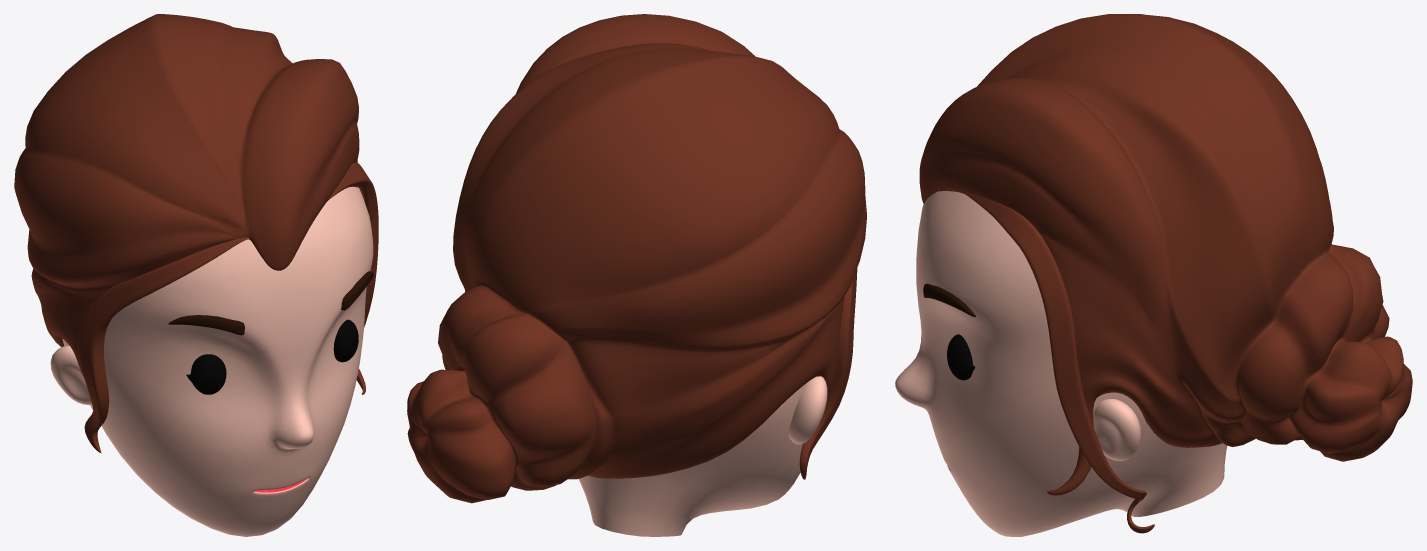
The model's file is Head_Woman_02.fbx.
3 renders of one model, left to right at view 1: azimuth 30°, elevation 25°; view 2: azimuth 150°, elevation 25°; view 3: azimuth 270°, elevation 25°, orthographic. The views are drawn at different scales.
Parts seen in each view (by area): view 1: Waitress; view 2: Waitress; view 3: Waitress.
Boxes of the visible parts, x1,y1,x2,y2 form: Waitress: (14,14,378,536); Waitress: (407,14,866,536); Waitress: (895,14,1412,536).
Size of the model in its own units: 76.43 by 109 by 103.
